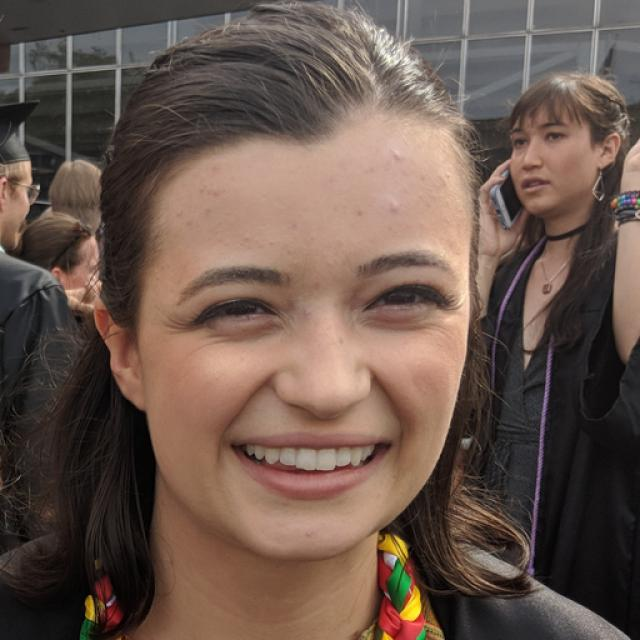Acne: (379, 198, 403, 216), (385, 144, 408, 162), (234, 230, 255, 245), (297, 306, 313, 320)
